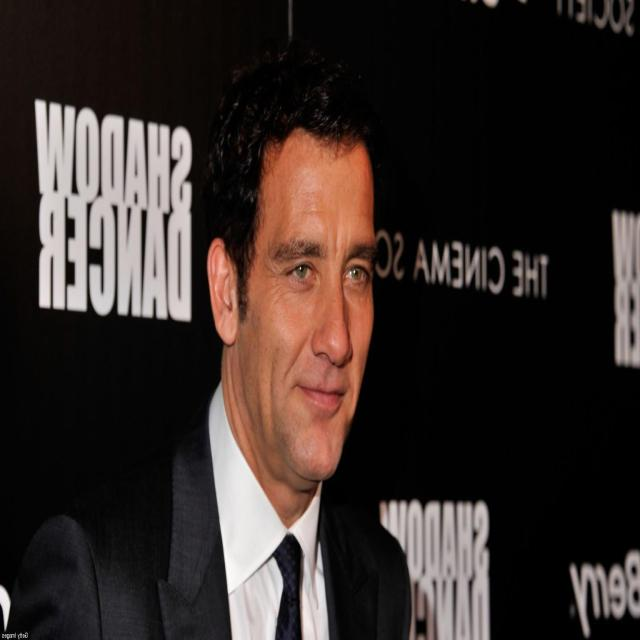no-earmuff: (206, 236, 242, 345)
